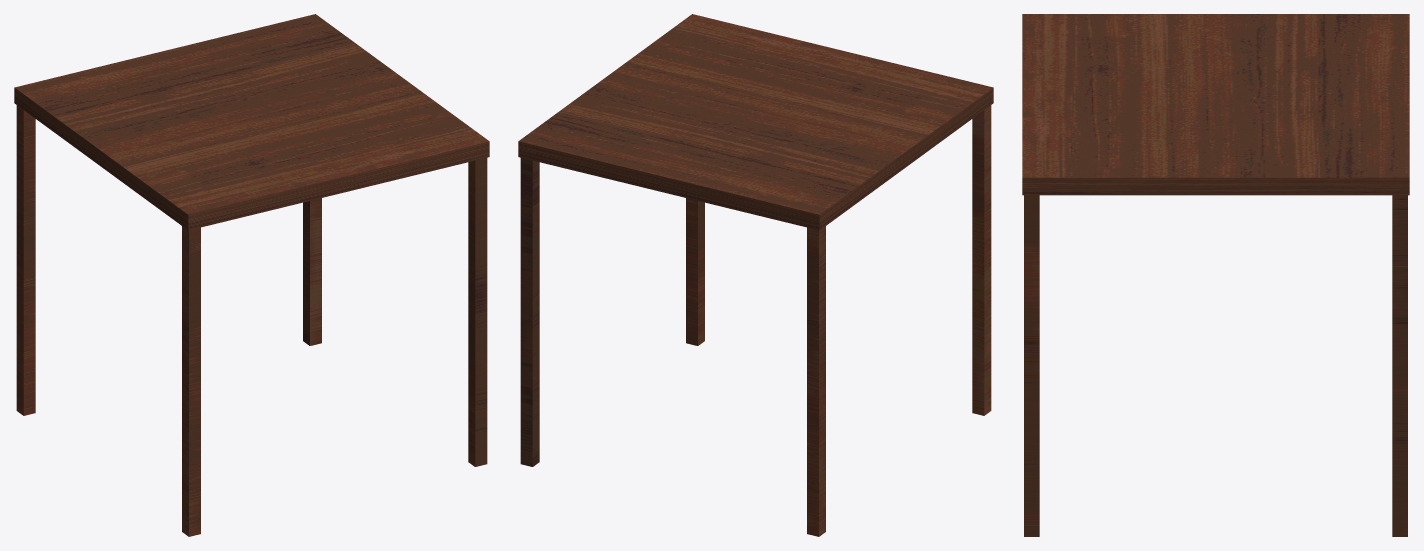
Rendered from table-small.glb.
3 renders of one model, left to right at view 1: azimuth 30°, elevation 25°; view 2: azimuth 150°, elevation 25°; view 3: azimuth 270°, elevation 25°, orthographic. The views are drawn at different scales.
Parts seen in each view (by area): view 1: table_small; view 2: table_small; view 3: table_small.
Part boxes in pixels (x1,y1,x2,y2): table_small: (14,14,489,536); table_small: (518,14,993,536); table_small: (1022,14,1409,536).
Size of the model in its own units: 0.4 by 0.41 by 0.4.
1 material, 1 textured.
